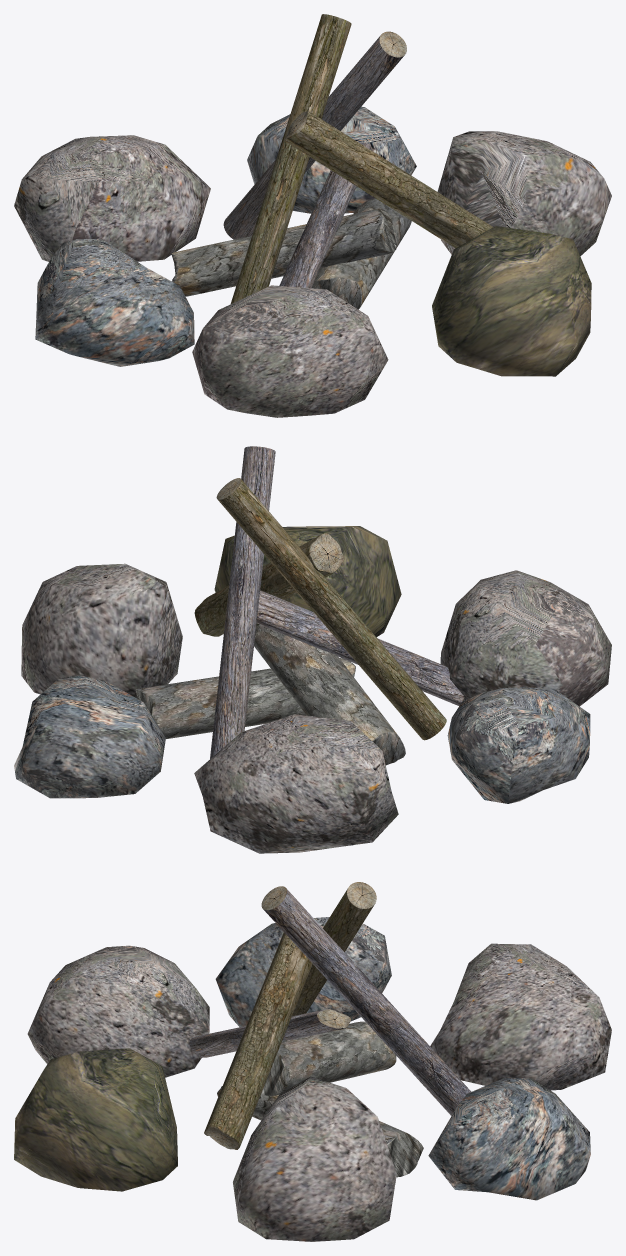
Rendered from campfire.obj.
3 renders of one model, top to bottom at view 1: azimuth 30°, elevation 25°; view 2: azimuth 150°, elevation 25°; view 3: azimuth 270°, elevation 25°, orthographic.
Visible parts, largest first — view 1: rock5, rock4, rock1, rock6, rock3, wood3, wood5, wood2, rock2, wood4, wood6, wood1; view 2: rock1, rock3, rock5, rock2, rock6, wood3, wood4, wood2, rock4, wood1, wood6, wood5; view 3: rock3, rock1, rock4, rock5, rock2, wood4, wood5, rock6, wood2, wood3, wood6, wood1.
Boxes of the visible parts, x1,y1,x2,y2 form: rock5: [192, 285, 388, 417]; rock4: [432, 226, 591, 376]; rock1: [14, 135, 210, 261]; rock6: [35, 239, 194, 366]; rock3: [437, 131, 611, 255]; wood3: [230, 14, 351, 303]; wood5: [284, 111, 493, 248]; wood2: [171, 209, 396, 296]; rock2: [247, 106, 416, 213]; wood4: [223, 31, 406, 239]; wood6: [279, 142, 372, 288]; wood1: [312, 198, 411, 309]; rock1: [194, 714, 398, 853]; rock3: [21, 563, 182, 698]; rock5: [440, 570, 611, 706]; rock2: [14, 675, 165, 798]; rock6: [447, 687, 590, 803]; wood3: [216, 478, 446, 740]; wood4: [210, 446, 275, 758]; wood2: [254, 624, 405, 765]; rock4: [214, 526, 401, 637]; wood1: [135, 658, 355, 738]; wood6: [256, 590, 464, 705]; wood5: [194, 533, 344, 636]; rock3: [233, 1076, 396, 1241]; rock1: [430, 943, 611, 1090]; rock4: [14, 1048, 177, 1191]; rock5: [27, 945, 209, 1077]; rock2: [428, 1077, 590, 1200]; wood4: [261, 886, 471, 1115]; wood5: [204, 932, 312, 1149]; rock6: [215, 917, 391, 1027]; wood2: [261, 1021, 396, 1095]; wood3: [292, 882, 376, 1016]; wood6: [189, 1009, 351, 1057]; wood1: [217, 1086, 423, 1177].
Size of the model in its own units: 5.86 by 2.7 by 5.44.
Materials: 2 (2 with a texture image).
